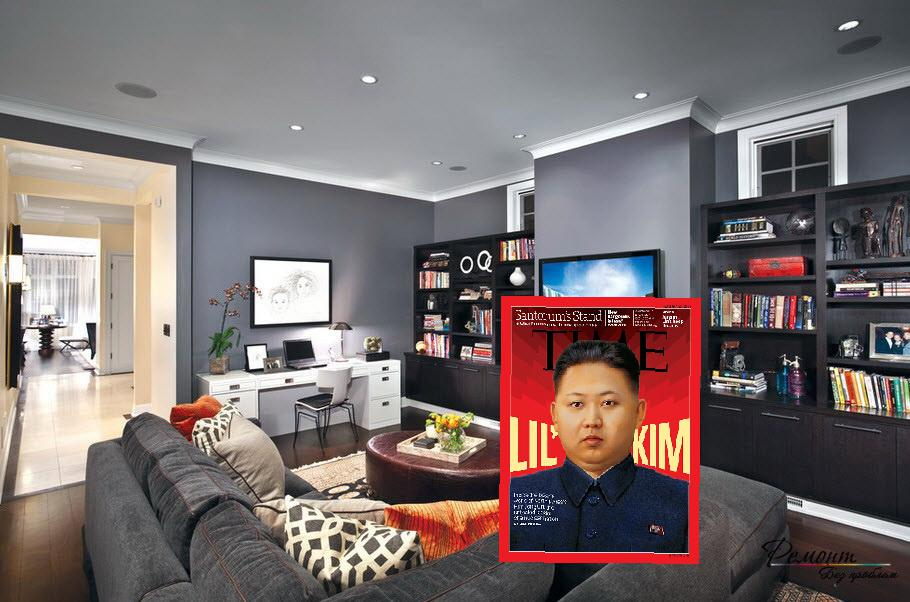times: (497, 294, 709, 565)
